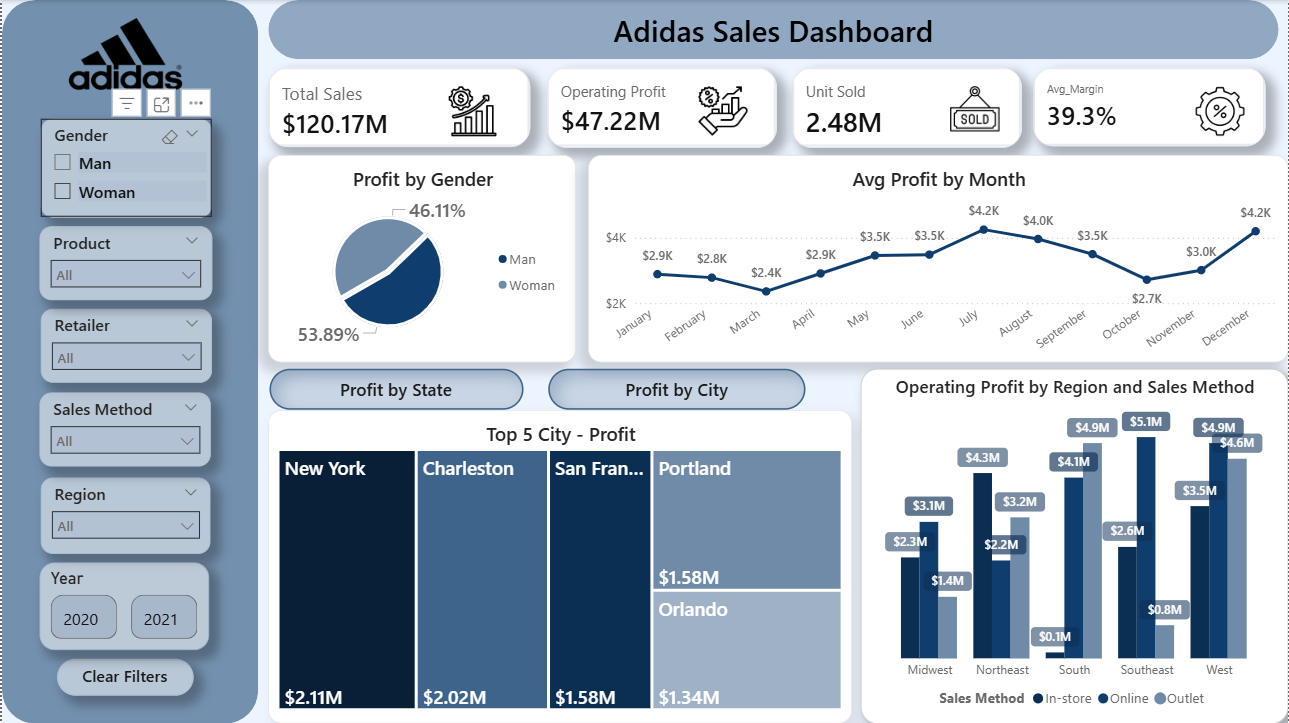

The page's visual inventory and layout, read from the dashboard file:
{"tool":"powerbi","page":{"name":"Core Summary","canvas":[1280,720],"ordinal":0},"visuals":[{"type":"shape","box":[264.4,0,1005.6,58.9],"z":0},{"type":"shape","box":[0,0,255,720.3],"z":1000},{"type":"image","box":[37.3,0,170.9,107.3],"z":2000},{"type":"slicer","fields":{"Values":["Region.Region"]},"box":[38.6,475.2,169.2,75.9],"z":3000},{"type":"slicer","fields":{"Values":["Retailer.Retailer"]},"box":[38.6,307.3,170.4,73.4],"z":4000},{"type":"slicer","fields":{"Values":["Method.Sales Method"]},"box":[37.3,390.6,170.4,73.4],"z":5000},{"type":"slicer","fields":{"Values":["Product.Gender"]},"box":[38.6,118.2,170.4,98.3],"z":6000},{"type":"cardVisual","title":"Unit Sold","fields":{"Data":["DaxTable.SumOfUnitSold"]},"box":[786.2,67.2,228.9,79.6],"z":7000},{"type":"cardVisual","fields":{"Data":["DaxTable.SumOfTotalSales"]},"box":[264.5,67.3,260.9,79.1],"z":8000},{"type":"cardVisual","fields":{"Data":["DaxTable.SumOfOperatingProfit"]},"box":[542.4,67.2,228.9,79.6],"z":9000},{"type":"cardVisual","fields":{"Data":["Data Sales Adidas.Avg_Margin"]},"box":[1025.7,67.1,231.4,78.6],"z":10000},{"type":"pieChart","title":"Profit by Gender","fields":{"Category":["Product.Gender"],"Y":["Sum(Data Sales Adidas.Operating Profit)"]},"box":[265,154.3,306,206.5],"z":12000},{"type":"lineChart","title":"Avg Profit by Month","fields":{"Category":["Date.Date.Variation.Date Hierarchy.Year","Date.Date.Variation.Date Hierarchy.Month"],"Y":["Median(Data Sales Adidas.Operating Profit)"]},"box":[583.4,154.3,696.6,206.5],"z":13000},{"type":"slicer","fields":{"Values":["Product.Product"]},"box":[37.3,225.2,171.7,73.4],"z":14000},{"type":"treemap","title":"Top 5 City - Profit","fields":{"Group":["Data Sales Adidas.City"],"Values":["Sum(Data Sales Adidas.Operating Profit)"]},"box":[265,408,580.9,312.2],"z":15000},{"type":"actionButton","box":[266,367.5,252.5,41.1],"z":16000},{"type":"actionButton","box":[543.4,367.5,256.3,41.1],"z":17000},{"type":"actionButton","box":[54.3,655.7,135.7,37.1],"z":18000},{"type":"image","box":[438.2,79.1,60.9,61.8],"z":19000},{"type":"image","box":[687.3,79.1,61.8,61.8],"z":20000},{"type":"image","box":[1181.8,79.1,60.9,61.8],"z":21000},{"type":"image","box":[931.7,72.1,73.4,74.6],"z":22000},{"type":"clusteredColumnChart","title":"Operating Profit by Region and Sales Method","fields":{"Category":["Region.Region"],"Y":["Sum(Data Sales Adidas.Operating Profit)"],"Series":["Method.Sales Method"]},"box":[854.6,367,425.4,353.3],"z":23000},{"type":"advancedSlicerVisual","fields":{"Values":["Date.Year"]},"box":[37.3,559.8,169.2,87.1],"z":24000}]}

Visuals, with their boxes in screenshot pixels (x1, y1, x2, y2), scaled from the page's 1280x720 canvas onto the 1289x723 screenshot:
shape: x1=266 y1=0 x2=1279 y2=59
shape: x1=0 y1=0 x2=257 y2=722
image: x1=38 y1=0 x2=210 y2=108
slicer - Region.Region: x1=39 y1=477 x2=209 y2=553
slicer - Retailer.Retailer: x1=39 y1=309 x2=210 y2=382
slicer - Method.Sales Method: x1=38 y1=392 x2=209 y2=466
slicer - Product.Gender: x1=39 y1=119 x2=210 y2=217
"Unit Sold" cardVisual: x1=792 y1=67 x2=1022 y2=147
cardVisual - DaxTable.SumOfTotalSales: x1=266 y1=68 x2=529 y2=147
cardVisual - DaxTable.SumOfOperatingProfit: x1=546 y1=67 x2=777 y2=147
cardVisual - Data Sales Adidas.Avg_Margin: x1=1033 y1=67 x2=1266 y2=146
"Profit by Gender" pieChart: x1=267 y1=155 x2=575 y2=362
"Avg Profit by Month" lineChart: x1=588 y1=155 x2=1288 y2=362
slicer - Product.Product: x1=38 y1=226 x2=210 y2=300
"Top 5 City - Profit" treemap: x1=267 y1=410 x2=852 y2=722
actionButton: x1=268 y1=369 x2=522 y2=410
actionButton: x1=547 y1=369 x2=805 y2=410
actionButton: x1=55 y1=658 x2=191 y2=696
image: x1=441 y1=79 x2=503 y2=141
image: x1=692 y1=79 x2=754 y2=141
image: x1=1190 y1=79 x2=1251 y2=141
image: x1=938 y1=72 x2=1012 y2=147
"Operating Profit by Region and Sales Method" clusteredColumnChart: x1=861 y1=369 x2=1288 y2=722
advancedSlicerVisual - Date.Year: x1=38 y1=562 x2=208 y2=650
